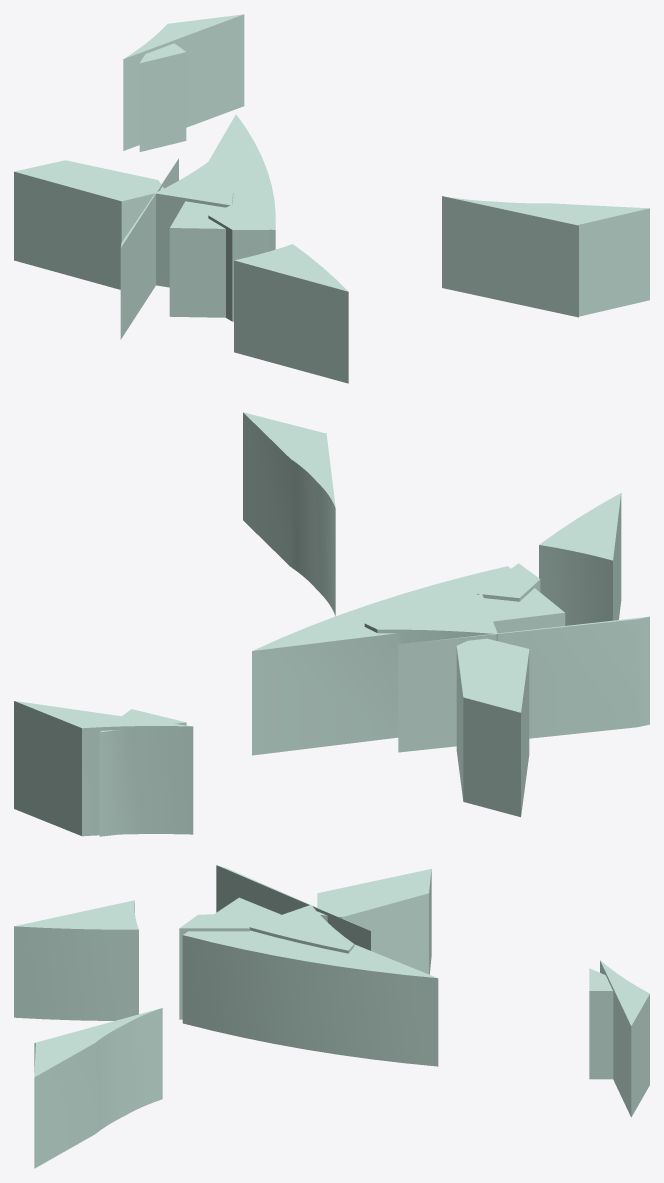
The picture shows the model from 3 angles, top to bottom: view 1: azimuth 30°, elevation 25°; view 2: azimuth 150°, elevation 25°; view 3: azimuth 270°, elevation 25°; orthographic projection. The views are drawn at different scales.
Parts seen in each view (by area): view 1: Renderer Node; view 2: Renderer Node; view 3: Renderer Node.
Boxes of the visible parts, x1,y1,x2,y2 form: Renderer Node: (14,14,649,383); Renderer Node: (14,412,649,836); Renderer Node: (14,865,649,1168).
Size of the model in its own units: 1.17 by 0.2344 by 1.48.
